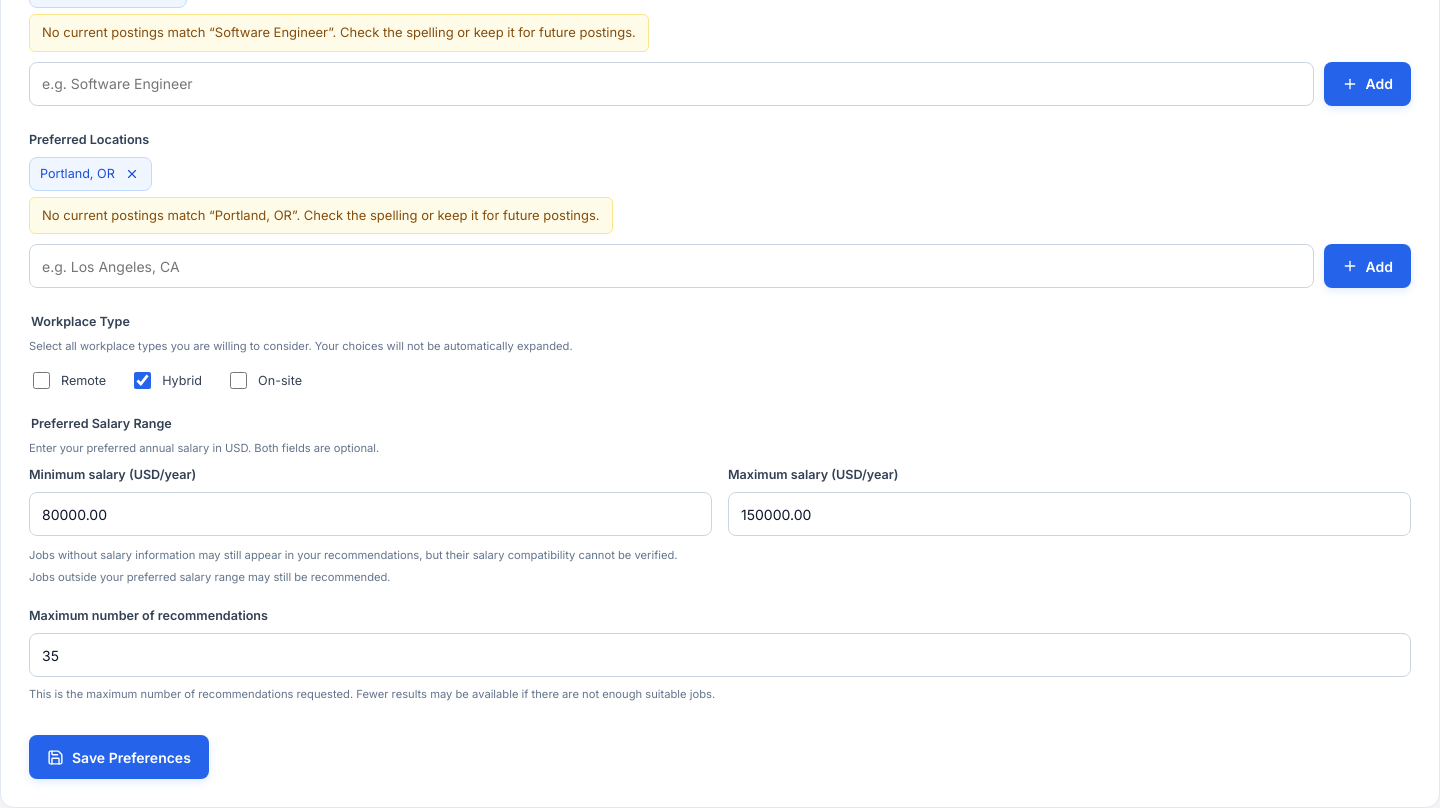
Scenario: SearchPreferencesForm (JH-021) › shows an API error when saving fails
The image size is (1440, 808).
(page scrolled)
Click the button "Save Preferences" at (119, 757), box [29,735,209,779]
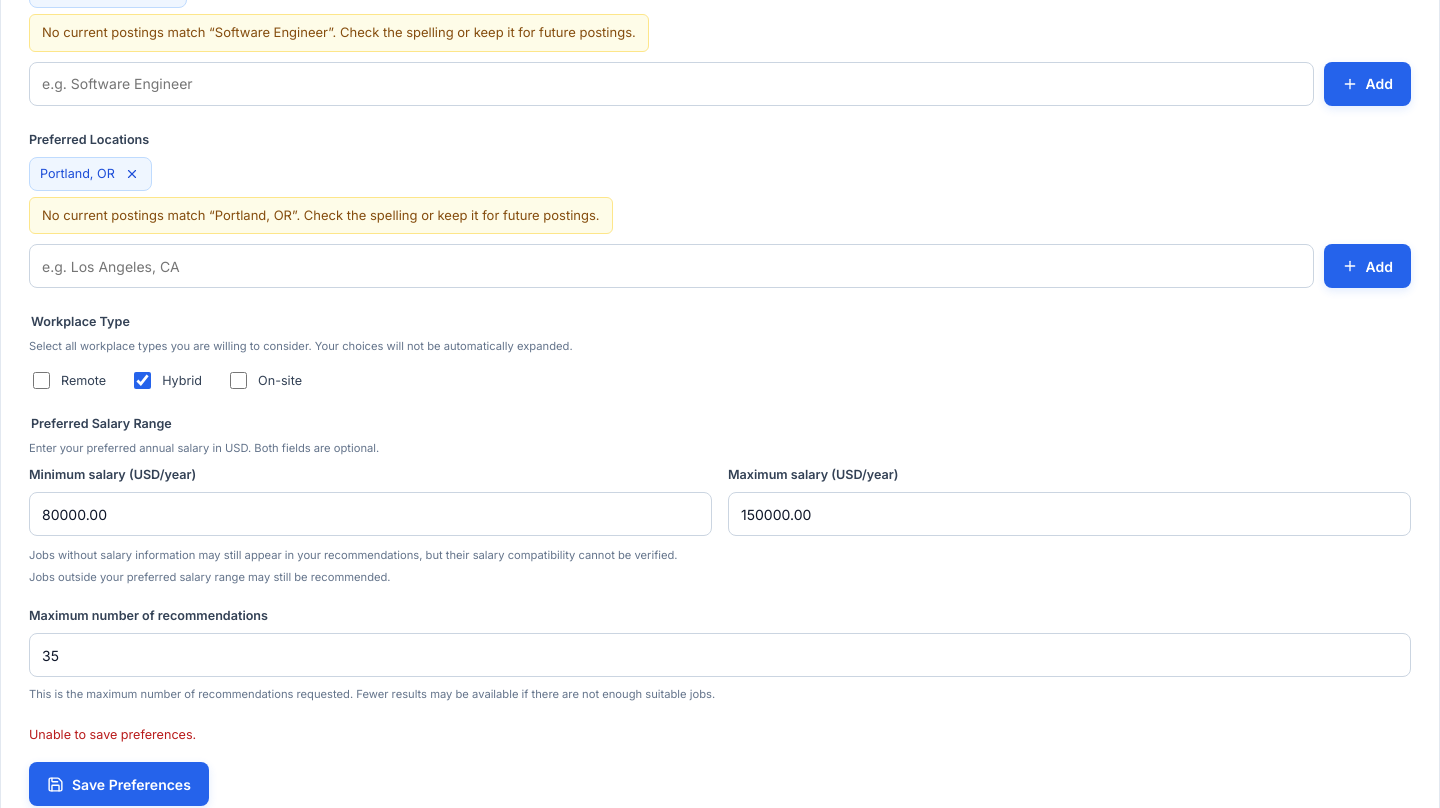
Expected: the message "Unable to save preferences." is shown, [29,727,196,742]
